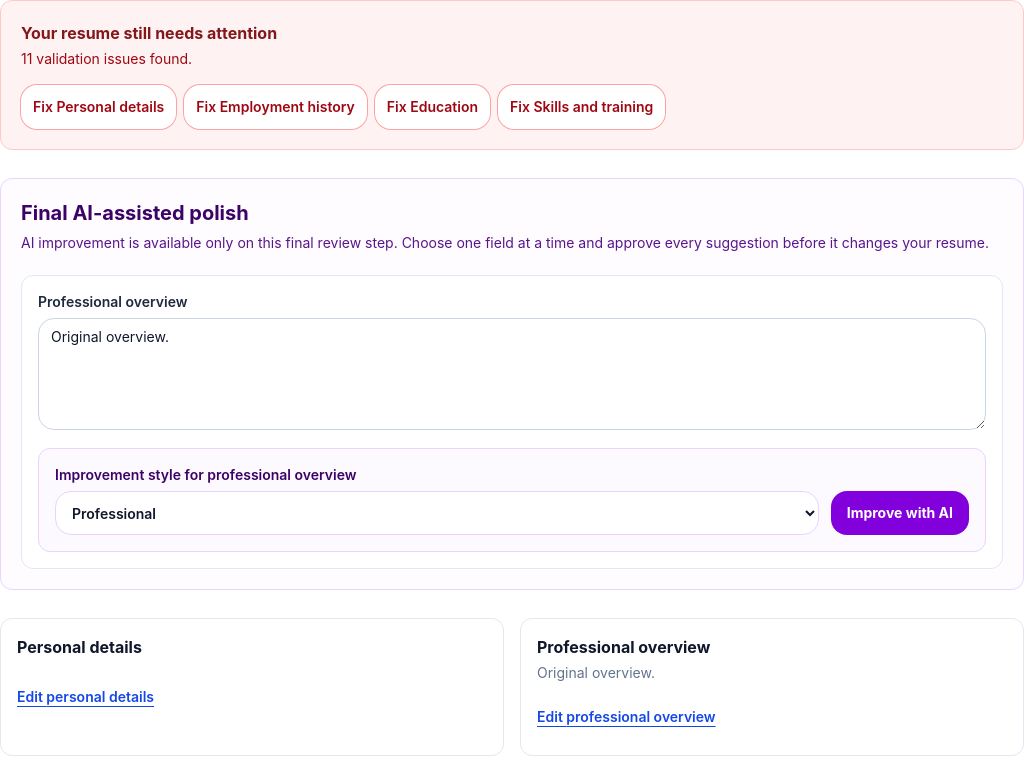
Test: controlled AI assistance › announces and focuses the comparison, while Reject preserves the original
Click the button with aria-label "Improve professional overview with AI".
click(900, 513)  # box [831,491,969,535]
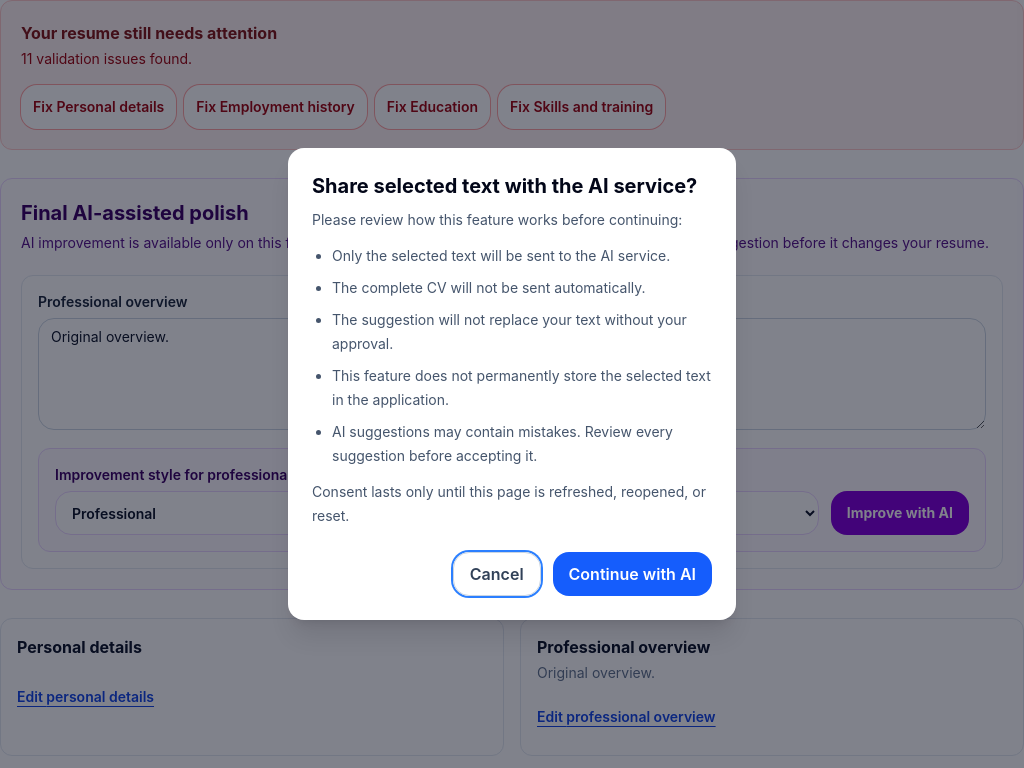
Click the button "Continue with AI".
click(632, 574)  # box [553,552,712,596]
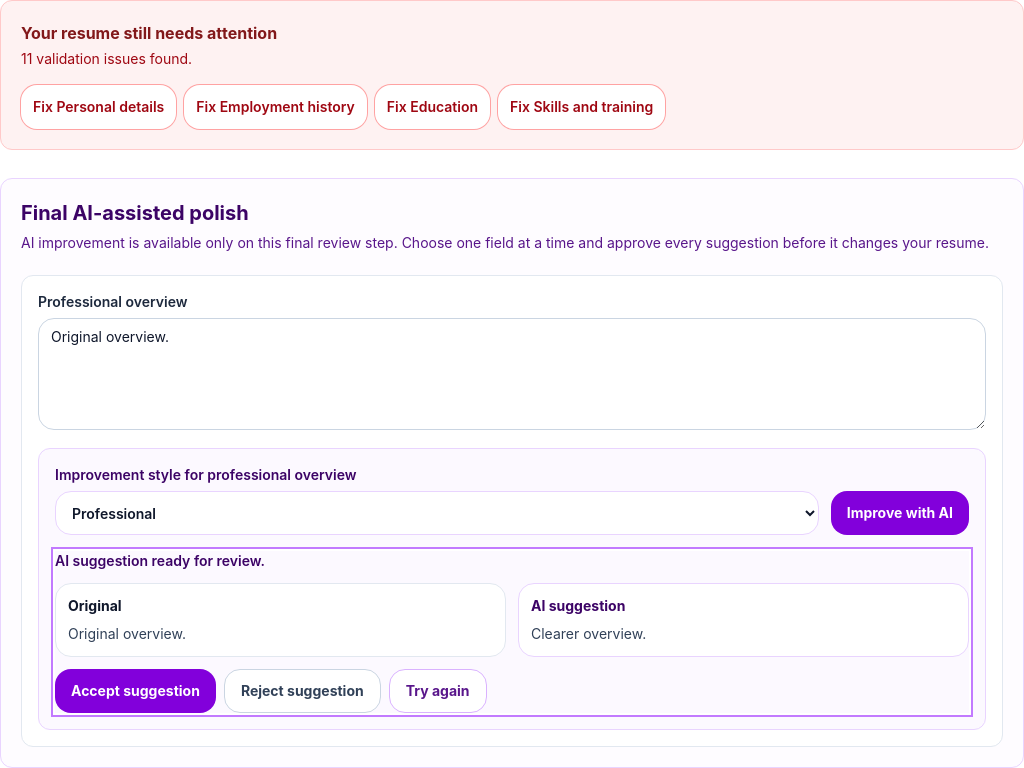
Check: the text "AI suggestion ready for review." is shown, box [55,552,265,569]
Check: the text "Clearer overview." is shown, box [531,625,646,642]
Click the button "Reject suggestion".
click(302, 691)  # box [224,669,381,713]
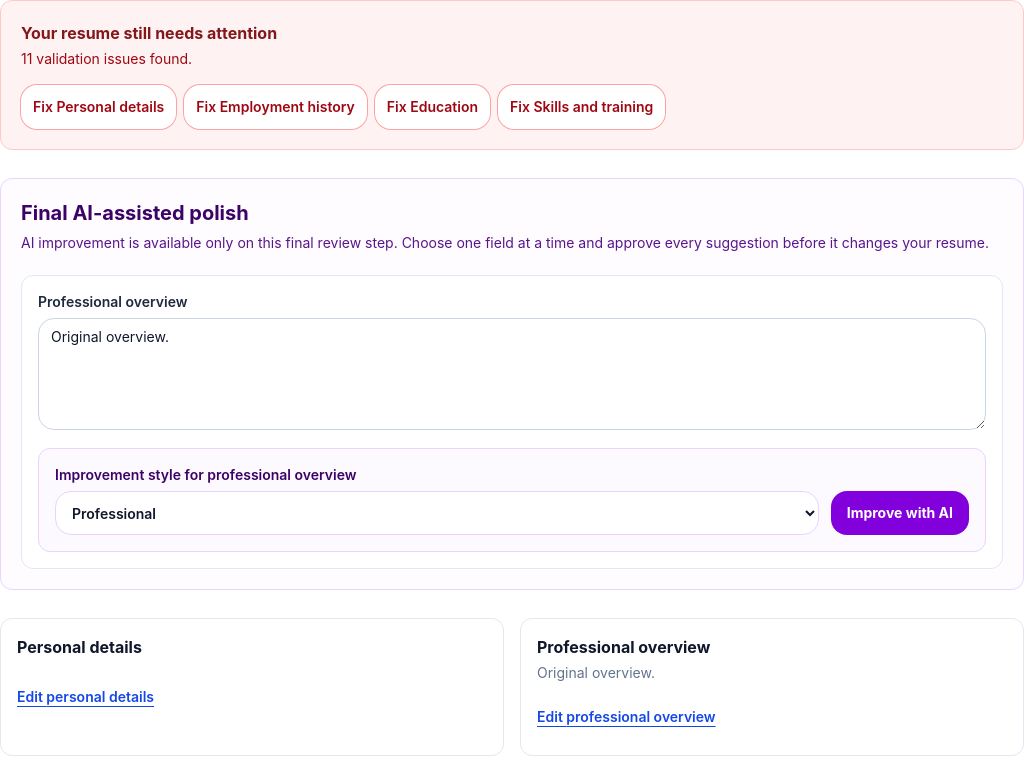
Check: the text box "Original overview." holds "Original overview.", box [38,318,986,430]
Check: the text "Clearer overview." is gone
